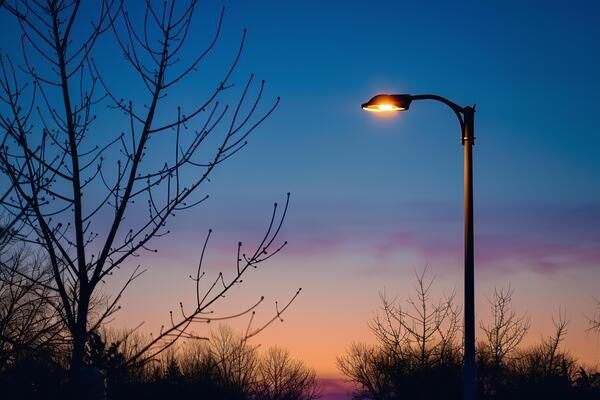Lamp: (351, 83, 493, 365)
